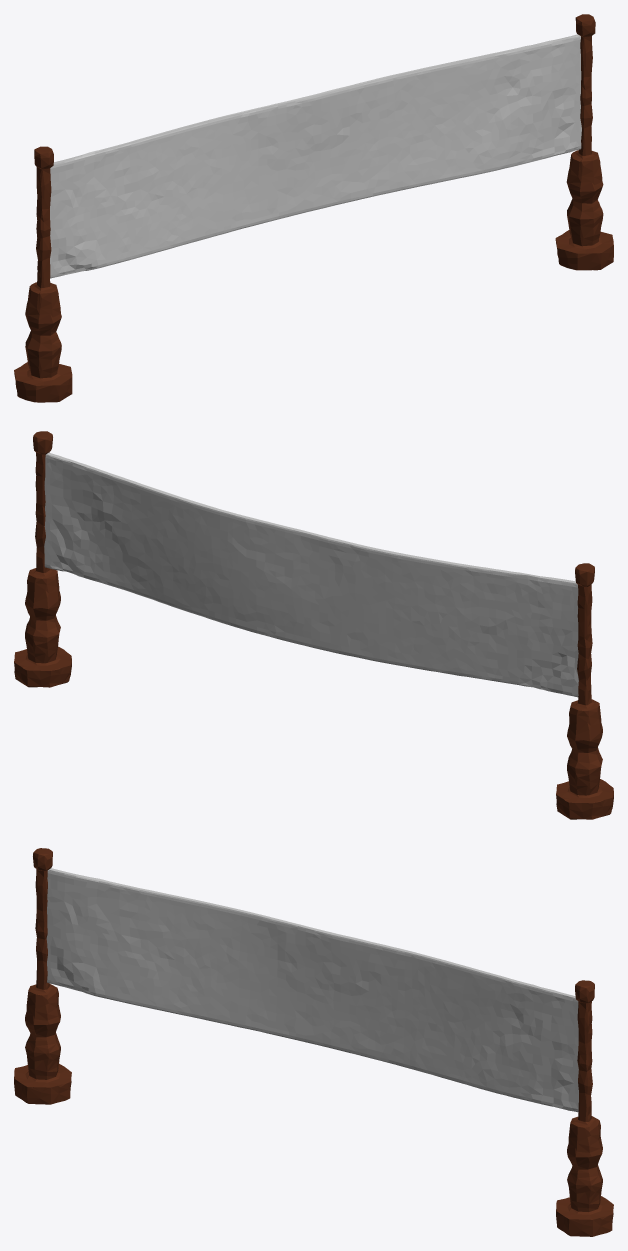
File: DesertLandSnakeFlag0331.obj
3 renders of one model, top to bottom at view 1: azimuth 30°, elevation 25°; view 2: azimuth 150°, elevation 25°; view 3: azimuth 330°, elevation 25°, orthographic.
Visible parts, largest first — view 1: Cube.003, Cube, Cube.002; view 2: Cube.003, Cube, Cube.002; view 3: Cube.003, Cube.002, Cube.
Part boxes in pixels (x1,y1,x2,y2): Cube.003: (50,34,581,278); Cube: (14,146,72,402); Cube.002: (555,14,613,270); Cube.003: (44,452,578,697); Cube: (556,563,613,819); Cube.002: (14,431,71,687); Cube.003: (46,868,578,1112); Cube.002: (556,980,613,1236); Cube: (14,848,71,1104).
Size of the model in its own units: 27.57 by 10.7 by 2.57.
